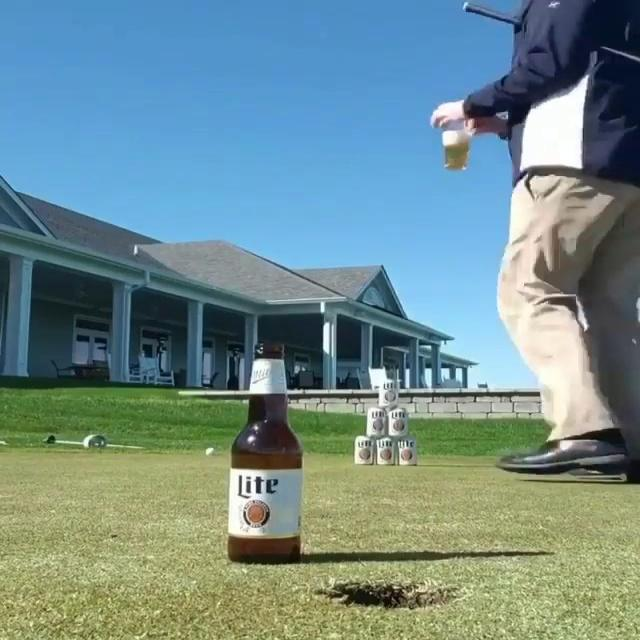golf ball: (205, 447, 216, 456)
golf club-handle: (462, 3, 640, 63)
